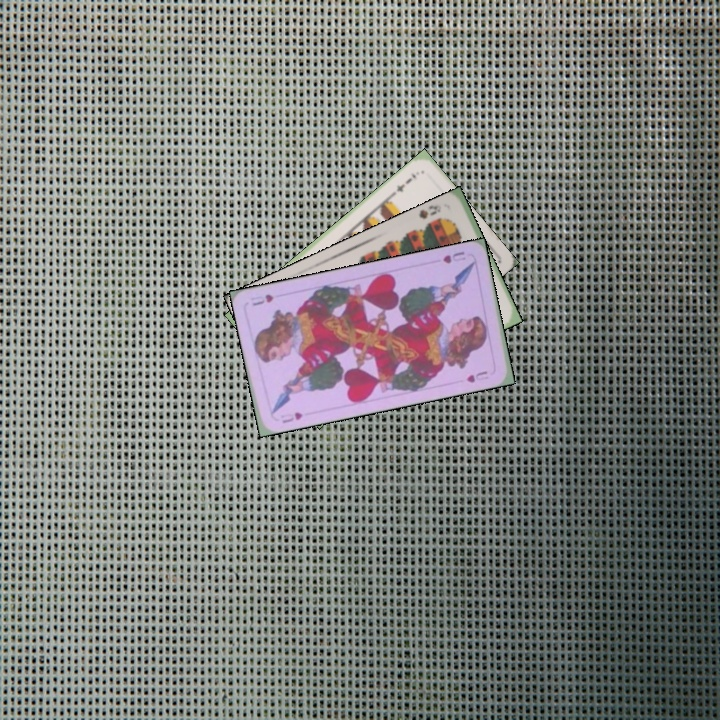E7: (388, 169, 419, 198)
HU: (439, 248, 468, 266), (278, 408, 305, 426)
S8: (414, 201, 444, 222)
